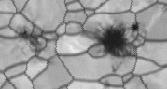good_void: (92, 18, 141, 59), (7, 23, 48, 62), (106, 59, 126, 74), (128, 21, 142, 33)
